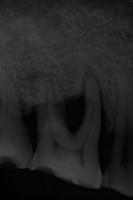Endo-Periodontal Lesion: (63, 93, 87, 134)
